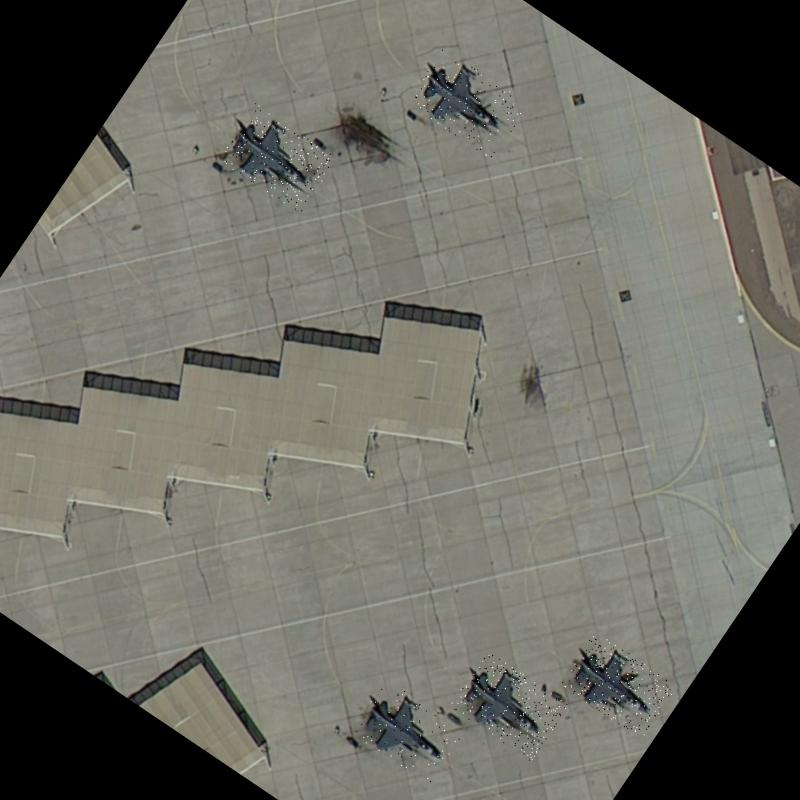A5: (406, 47, 530, 161), (217, 103, 338, 216), (449, 650, 569, 762), (560, 631, 678, 740), (349, 678, 465, 786)
